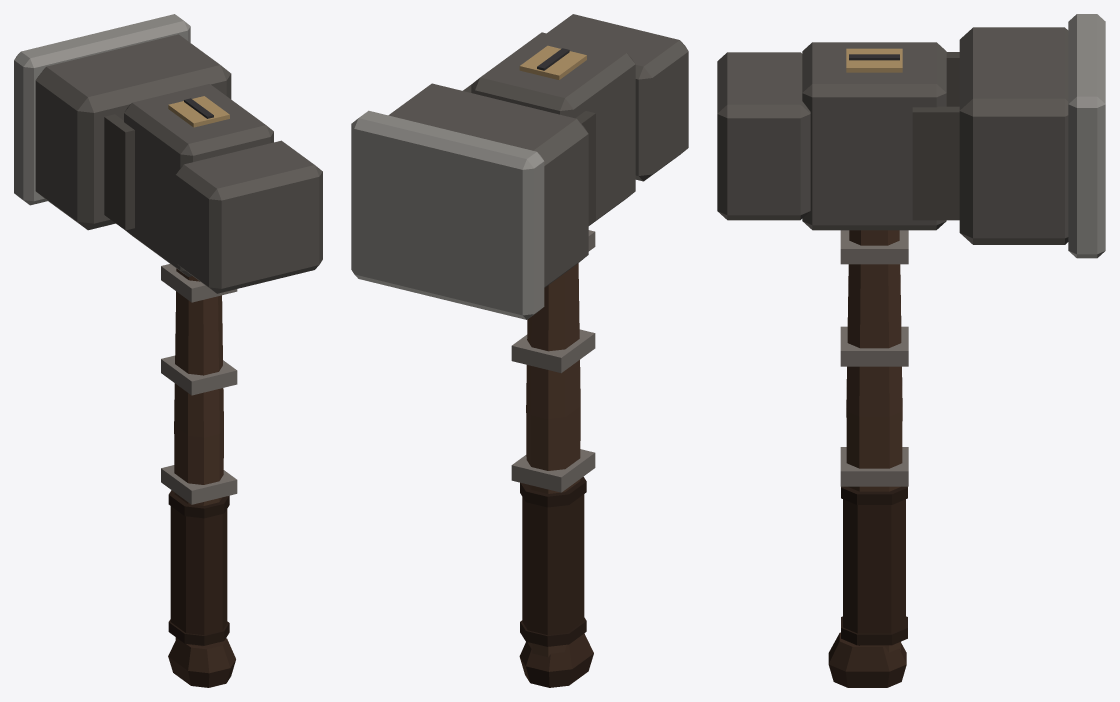
Rendered from HermitsMaul.glb.
3 renders of one model, left to right at view 1: azimuth 30°, elevation 25°; view 2: azimuth 150°, elevation 25°; view 3: azimuth 270°, elevation 25°, orthographic. The views are drawn at different scales.
Visible parts, largest first — view 1: Head, Handle; view 2: Head, Handle; view 3: Head, Handle.
Boxes of the visible parts, x1,y1,x2,y2 form: Head: (14,14,322,293); Handle: (161,96,237,687); Head: (351,14,688,319); Handle: (511,45,595,687); Head: (717,14,1105,258); Handle: (828,48,908,687).
Size of the model in its own units: 1.25 by 4.03 by 2.28.
